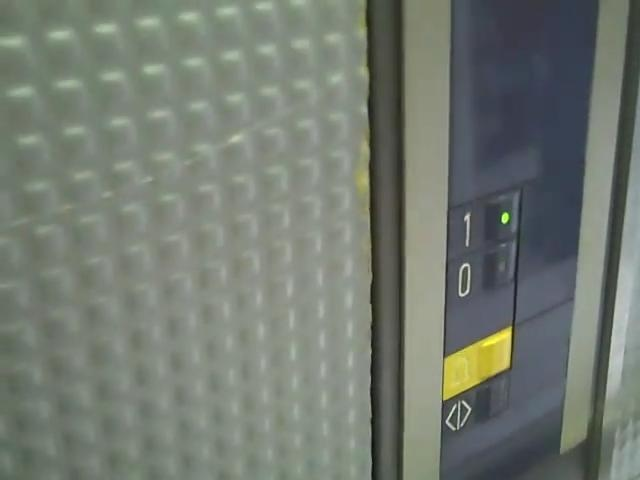0: (442, 236, 522, 310)
1: (444, 184, 525, 258)
alarm: (439, 324, 517, 403)
open: (439, 364, 515, 435)
